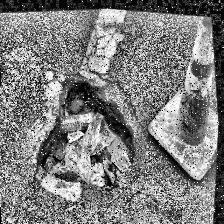pothole: (26, 61, 146, 200)
